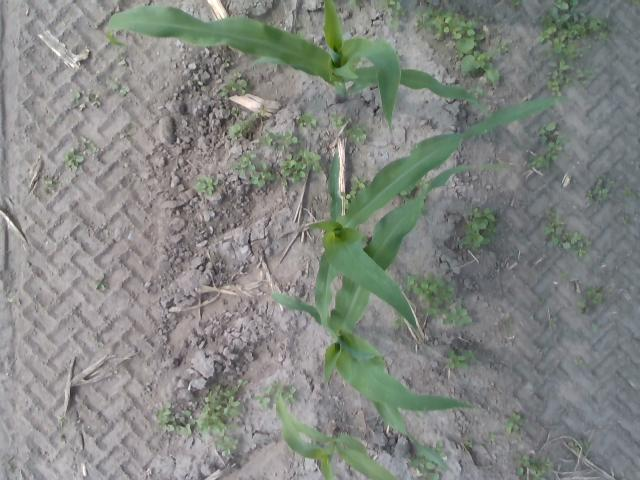Maize: (272, 163, 511, 473), (303, 95, 572, 360), (104, 1, 493, 139), (276, 394, 396, 480)
Weeds: (195, 379, 248, 434), (553, 15, 609, 56), (403, 272, 455, 316), (544, 220, 590, 257), (409, 440, 446, 480), (461, 51, 499, 84), (434, 11, 476, 40), (516, 453, 553, 480), (458, 222, 489, 246), (549, 60, 570, 94), (266, 380, 296, 403), (443, 304, 472, 327), (249, 162, 276, 186), (556, 0, 584, 23), (266, 130, 297, 150), (448, 349, 478, 369), (300, 149, 322, 172), (538, 121, 558, 142), (242, 106, 260, 129), (215, 436, 238, 454), (64, 146, 84, 166), (196, 176, 214, 194), (454, 37, 474, 53), (416, 13, 435, 29), (252, 395, 272, 410), (593, 178, 608, 198), (506, 412, 520, 431), (586, 288, 602, 304), (156, 402, 170, 420), (536, 26, 554, 40), (159, 415, 174, 431), (230, 80, 247, 94), (94, 276, 108, 292), (228, 124, 242, 140), (278, 153, 295, 166), (481, 207, 494, 224), (576, 64, 591, 78), (529, 155, 547, 166), (352, 128, 366, 142), (390, 0, 403, 15), (300, 116, 316, 128), (568, 440, 584, 452), (120, 125, 134, 138), (352, 176, 365, 190), (540, 14, 554, 27), (502, 317, 514, 332), (42, 176, 53, 192), (176, 424, 191, 435), (390, 17, 402, 30), (184, 410, 194, 425), (260, 136, 272, 148), (292, 172, 304, 184), (550, 138, 562, 150), (498, 42, 510, 54), (280, 168, 290, 182), (232, 162, 249, 170), (469, 206, 480, 218), (242, 152, 255, 162), (550, 6, 559, 20), (576, 302, 586, 314), (624, 188, 636, 198), (332, 114, 342, 125), (473, 32, 483, 43), (484, 224, 494, 235), (228, 73, 240, 82), (58, 416, 68, 426), (546, 148, 556, 158), (546, 209, 556, 218), (91, 96, 100, 106), (81, 137, 90, 146), (220, 87, 228, 97), (464, 439, 474, 447), (112, 78, 120, 88), (469, 89, 484, 94), (85, 91, 91, 103), (72, 94, 81, 102), (294, 162, 303, 170), (341, 192, 349, 201), (486, 433, 495, 441), (120, 86, 128, 94), (538, 294, 545, 302), (620, 215, 628, 222), (120, 59, 128, 66), (586, 190, 593, 197), (232, 108, 238, 116), (348, 191, 356, 197), (80, 103, 86, 110), (550, 317, 556, 324), (592, 323, 598, 330), (84, 150, 92, 155), (60, 434, 66, 440), (636, 1, 640, 10), (514, 0, 520, 6), (70, 163, 77, 168), (93, 148, 99, 153), (563, 270, 568, 276), (575, 360, 582, 364)
